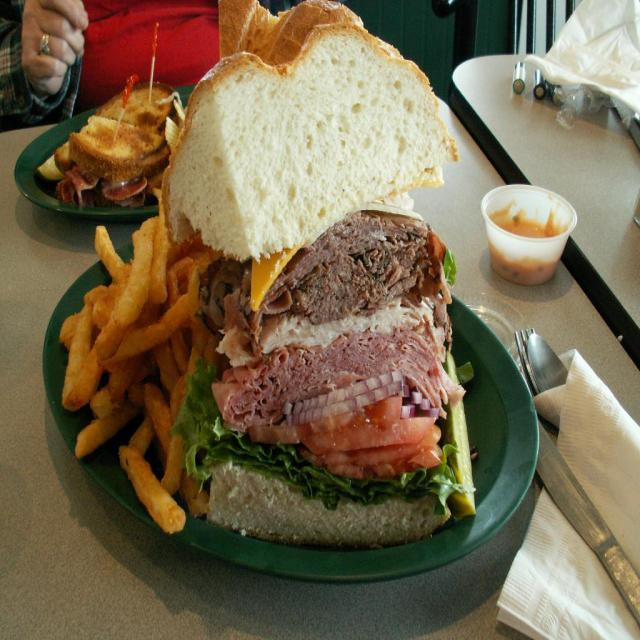Hamburger: (159, 0, 479, 542), (55, 114, 160, 206), (96, 83, 180, 193)
